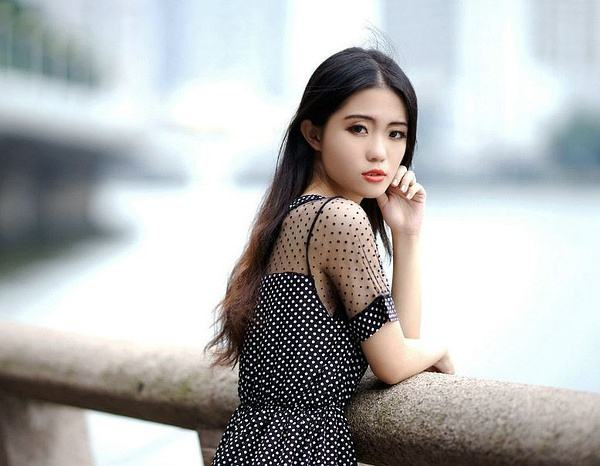person: (228, 48, 457, 422)
